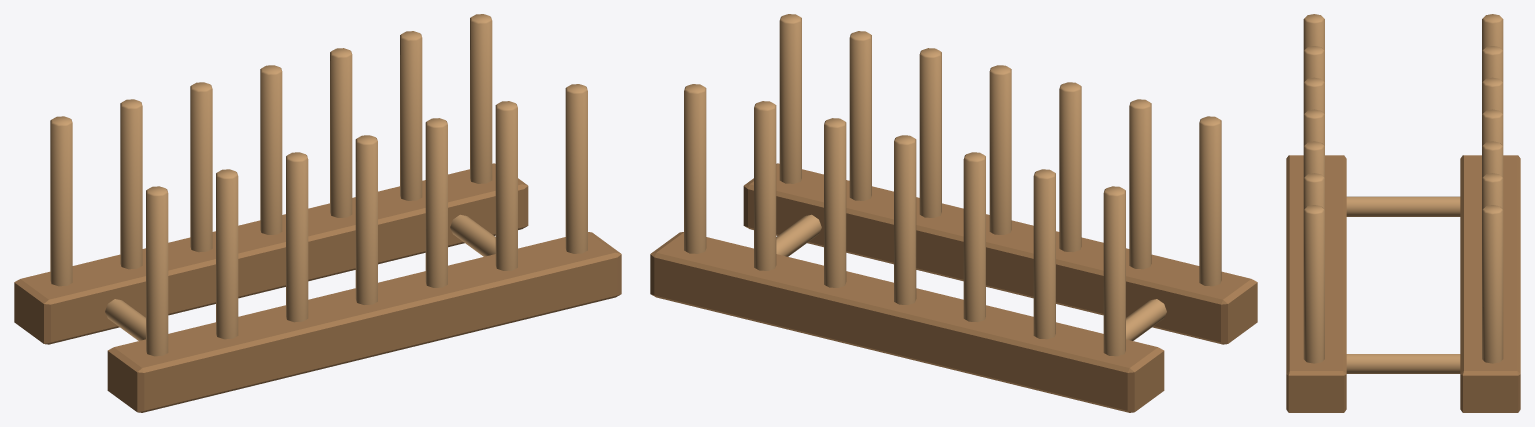
Rendered from plate_holder.glb.
3 renders of one model, left to right at view 1: azimuth 30°, elevation 25°; view 2: azimuth 150°, elevation 25°; view 3: azimuth 270°, elevation 25°, orthographic. The views are drawn at different scales.
Parts seen in each view (by area): view 1: plate_holder.001; view 2: plate_holder.001; view 3: plate_holder.001.
Part boxes in pixels (bbox=[...]): plate_holder.001: bbox=[14, 14, 621, 412]; plate_holder.001: bbox=[650, 14, 1257, 412]; plate_holder.001: bbox=[1286, 14, 1520, 412].
Bounding box in the file's own units: 0.239 × 0.0971 × 0.1074.
1 material, 1 textured.
